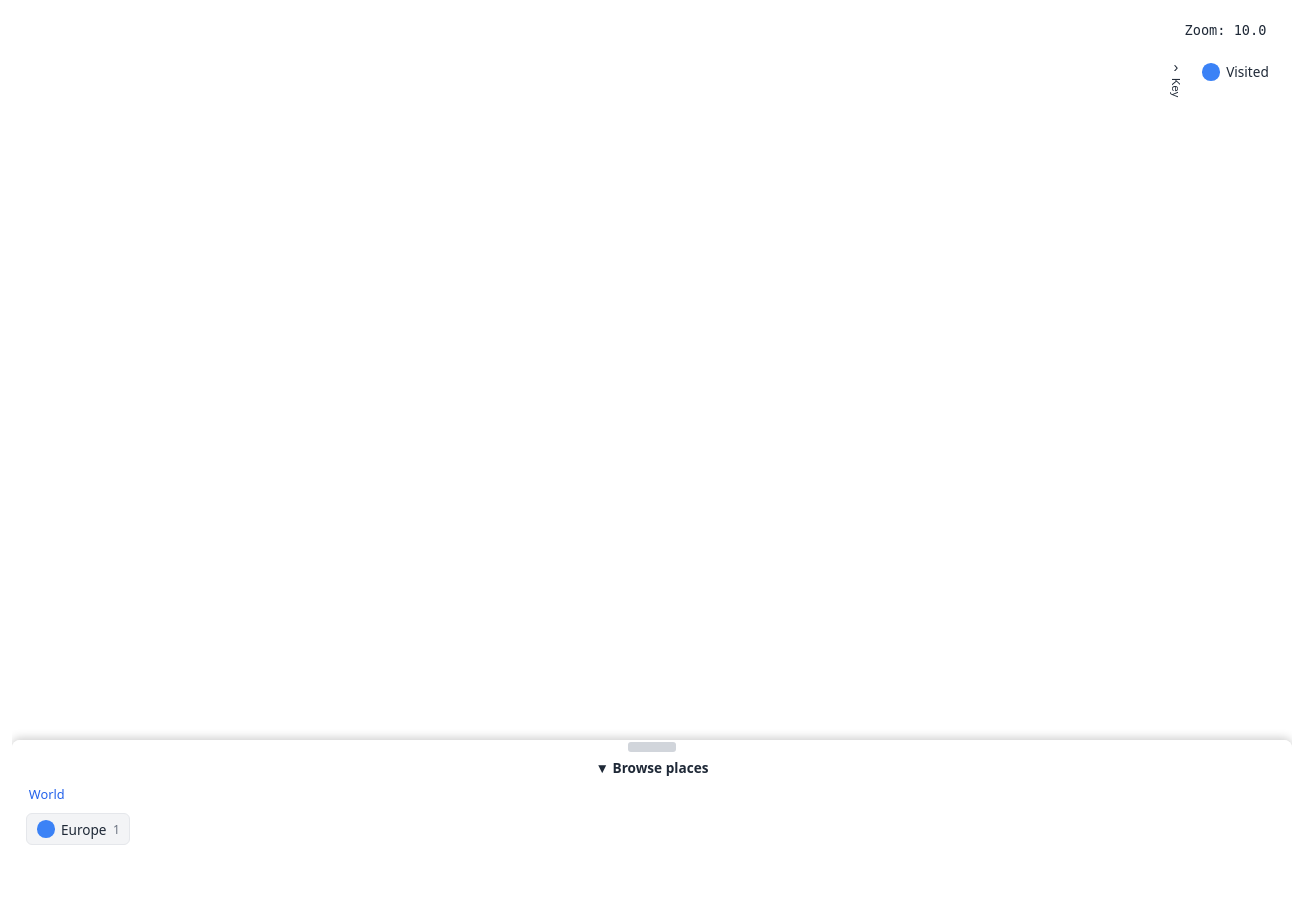
it: MapView › legend drawer collapse/expand › hides legend content and flips the toggle label when collapsed
Click the button with aria-label "Hide map key": [1176, 78] box [1165,52,1187,105]
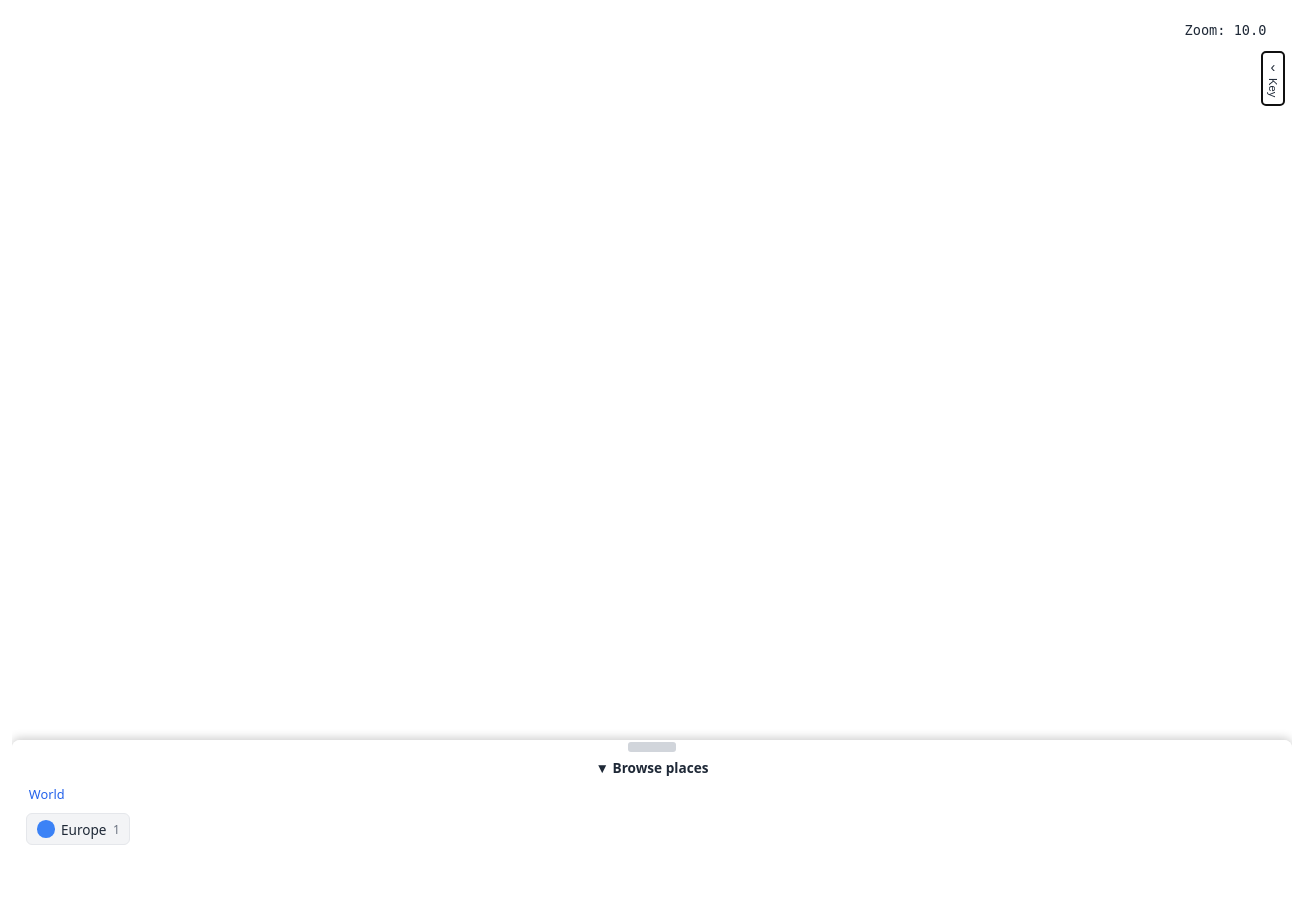
Result: the button with aria-label "Show map key" is shown at [1262,52,1284,105]
